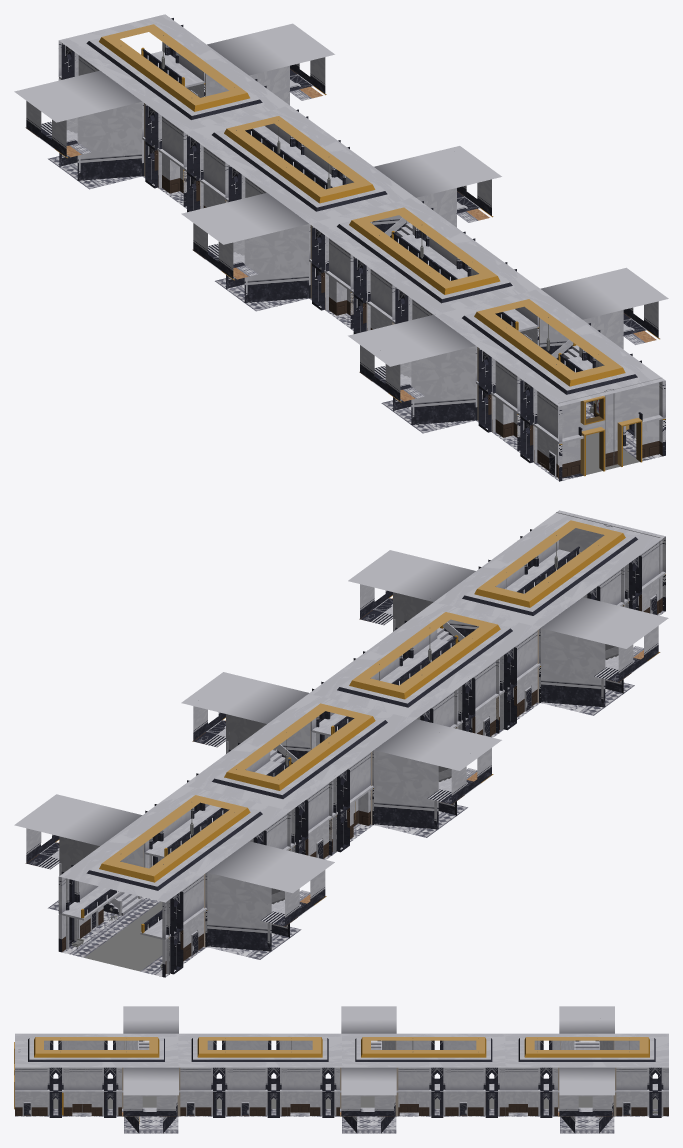
The model's file is AdrienMansion_LobbyNew.fbx.
The picture shows the model from 3 angles, top to bottom: view 1: azimuth 30°, elevation 25°; view 2: azimuth 150°, elevation 25°; view 3: azimuth 270°, elevation 25°; orthographic projection. The views are drawn at different scales.
Visible parts, largest first — view 1: AdrienMansion_Lobby_01, AdrienMansion_Lobby_02; view 2: AdrienMansion_Lobby_01, AdrienMansion_Lobby_02; view 3: AdrienMansion_Lobby_01, AdrienMansion_Lobby_02.
Boxes of the visible parts, bbox=[...] form: AdrienMansion_Lobby_01: bbox=[14, 14, 501, 311]; AdrienMansion_Lobby_02: bbox=[309, 197, 668, 481]; AdrienMansion_Lobby_01: bbox=[14, 672, 501, 977]; AdrienMansion_Lobby_02: bbox=[309, 510, 668, 749]; AdrienMansion_Lobby_01: bbox=[340, 1006, 668, 1133]; AdrienMansion_Lobby_02: bbox=[14, 1006, 341, 1133].
Size of the model in its own units: 19311 by 5610 by 60081.
